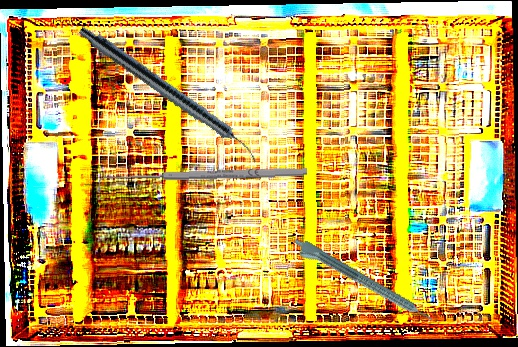Handpiece: (74, 23, 265, 165), (289, 235, 435, 331)
Hook Surgical: (98, 164, 308, 193)
